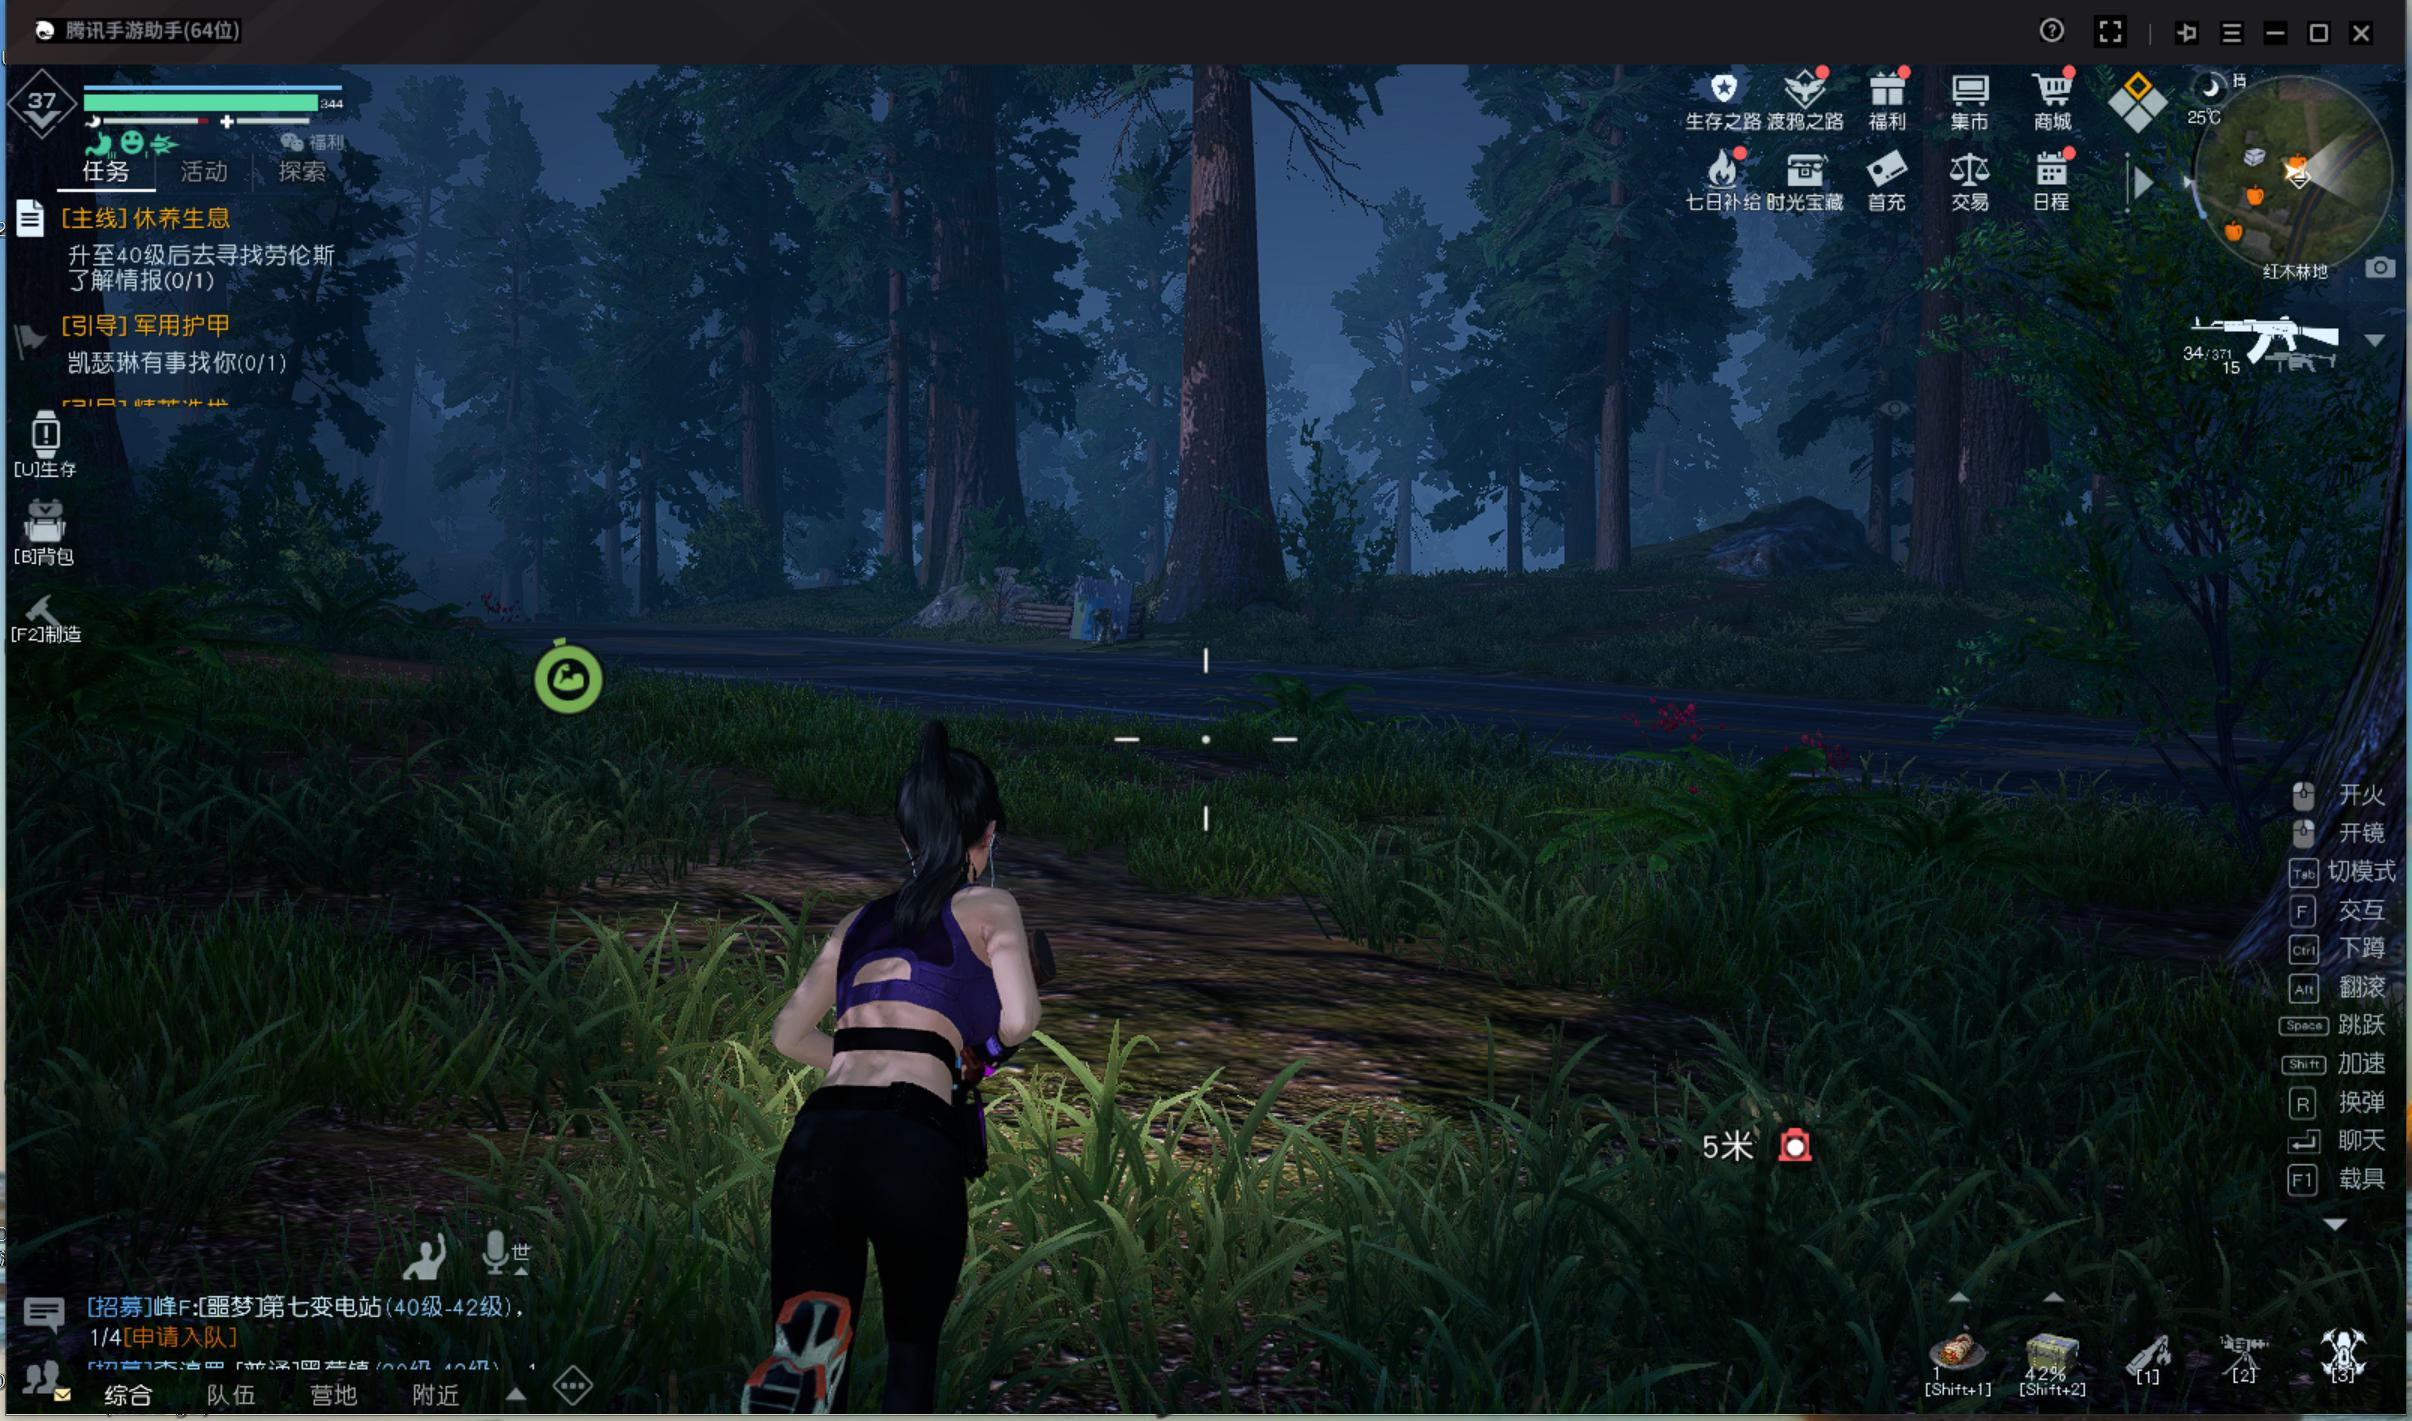tree: (1160, 134, 1287, 636), (915, 110, 1035, 626), (1905, 218, 1965, 623), (731, 259, 793, 616), (880, 272, 905, 601), (626, 475, 672, 629), (1597, 377, 1624, 594), (1500, 453, 1526, 595)
